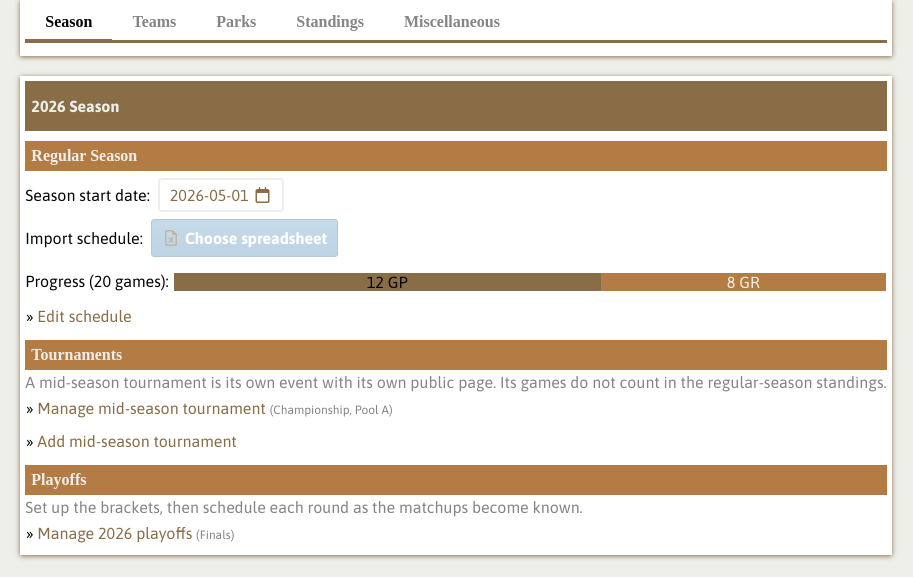
Executive Page › standings tab explains when no seasons exist yet
This screenshot has width=913, height=577.
Click the button "Standings". click: point(330, 24)
box: [276,5,384,43]
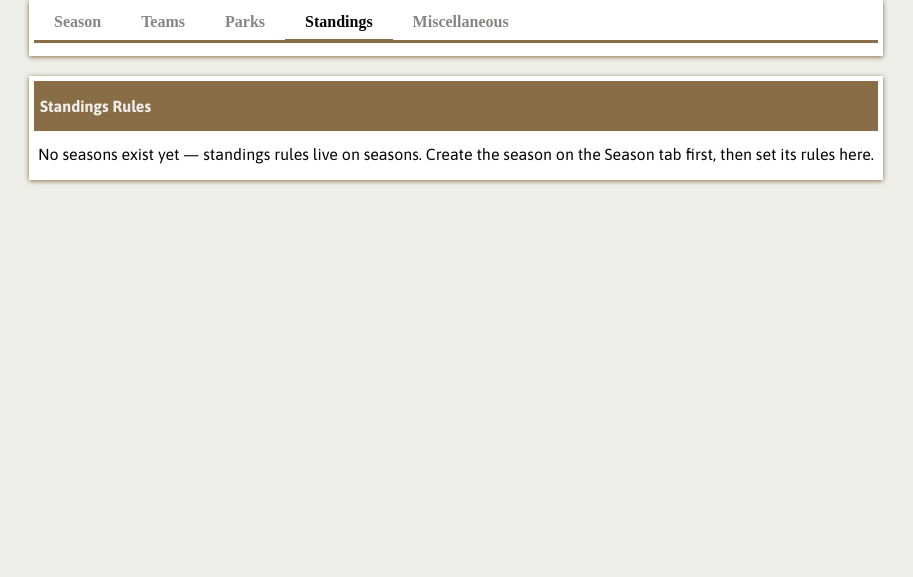
Result: the text "standings rules live on seasons" is shown at [38,145,874,163]
